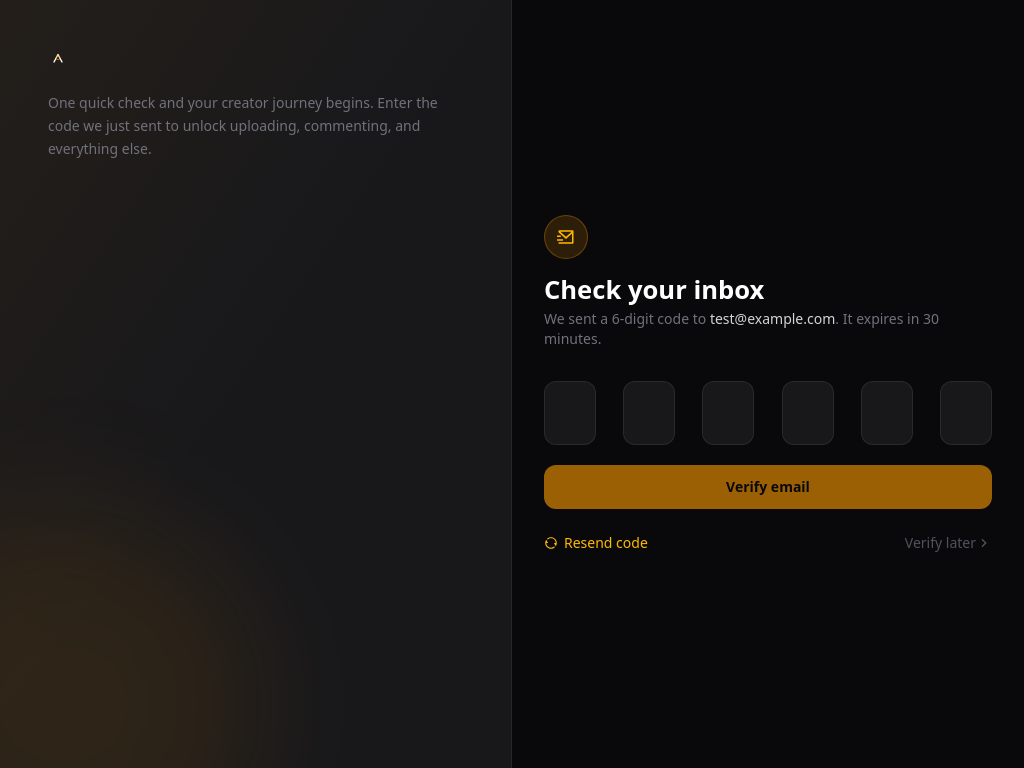
Test: VerifyOtp › resends via the pre-login endpoint and starts the cooldown
The width and height of the screenshot is (1024, 768).
Click the button "Resend code": coordinates (596, 543) [544,533,648,553]
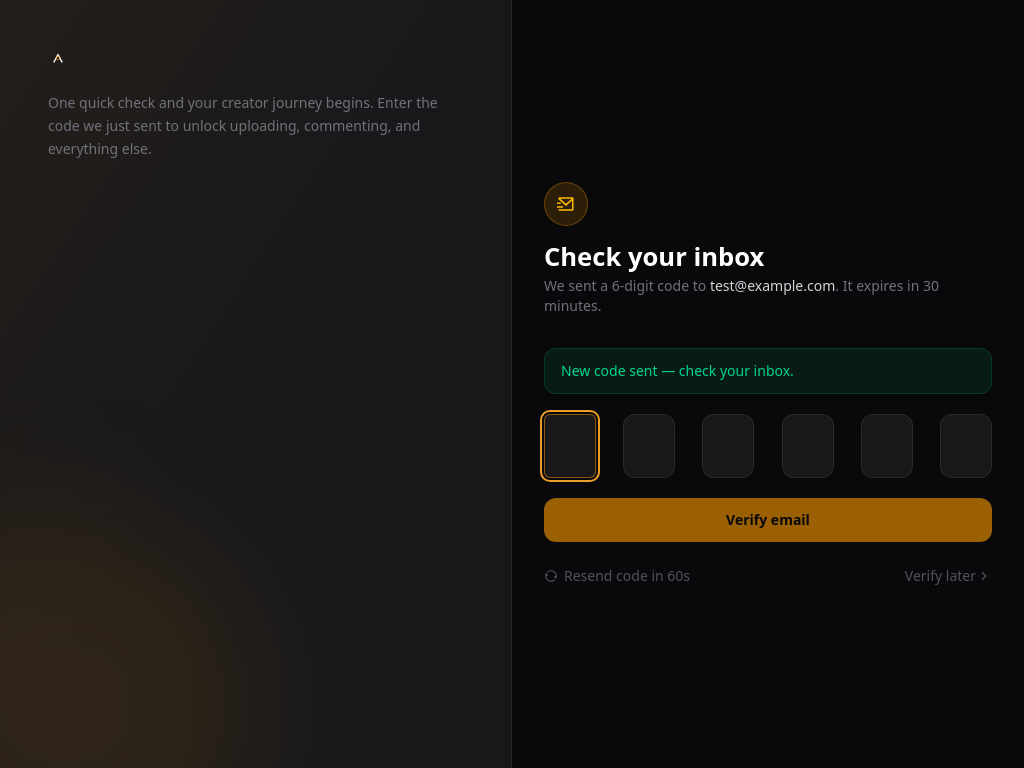
Now the text "New code sent — check your inbox." is shown, box [544,348,992,394]
Now the button "Resend code in 60s" is disabled, box [544,566,690,586]
